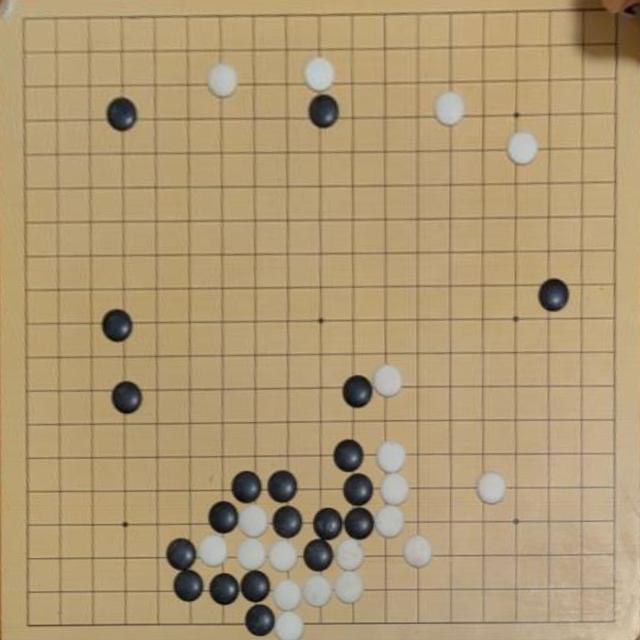blackstone: (102, 309, 134, 343), (539, 278, 569, 312), (309, 94, 339, 128), (231, 471, 262, 503), (343, 473, 373, 506), (240, 570, 270, 603), (245, 604, 276, 635), (112, 382, 142, 414), (107, 98, 137, 130), (334, 440, 364, 472), (268, 470, 298, 502), (273, 506, 303, 538), (166, 538, 196, 570), (344, 507, 374, 539), (174, 570, 204, 602), (313, 508, 343, 540), (210, 573, 240, 605), (303, 539, 333, 571), (209, 501, 238, 534), (343, 376, 372, 408)
whitestone: (507, 131, 539, 165), (435, 91, 466, 125), (374, 505, 405, 538), (208, 63, 238, 97), (304, 57, 334, 91), (477, 471, 507, 505), (376, 440, 406, 474), (198, 534, 228, 568), (334, 570, 364, 604), (239, 504, 269, 537), (272, 578, 302, 611), (373, 364, 402, 398), (380, 473, 410, 505), (268, 540, 298, 572), (237, 538, 267, 570), (302, 575, 332, 607), (336, 537, 365, 570), (403, 535, 432, 567), (274, 611, 304, 640)
